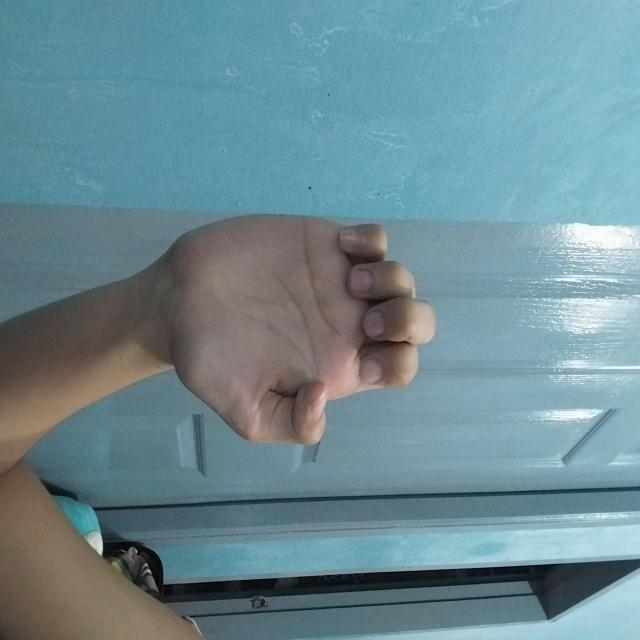E: (216, 202, 447, 474)
